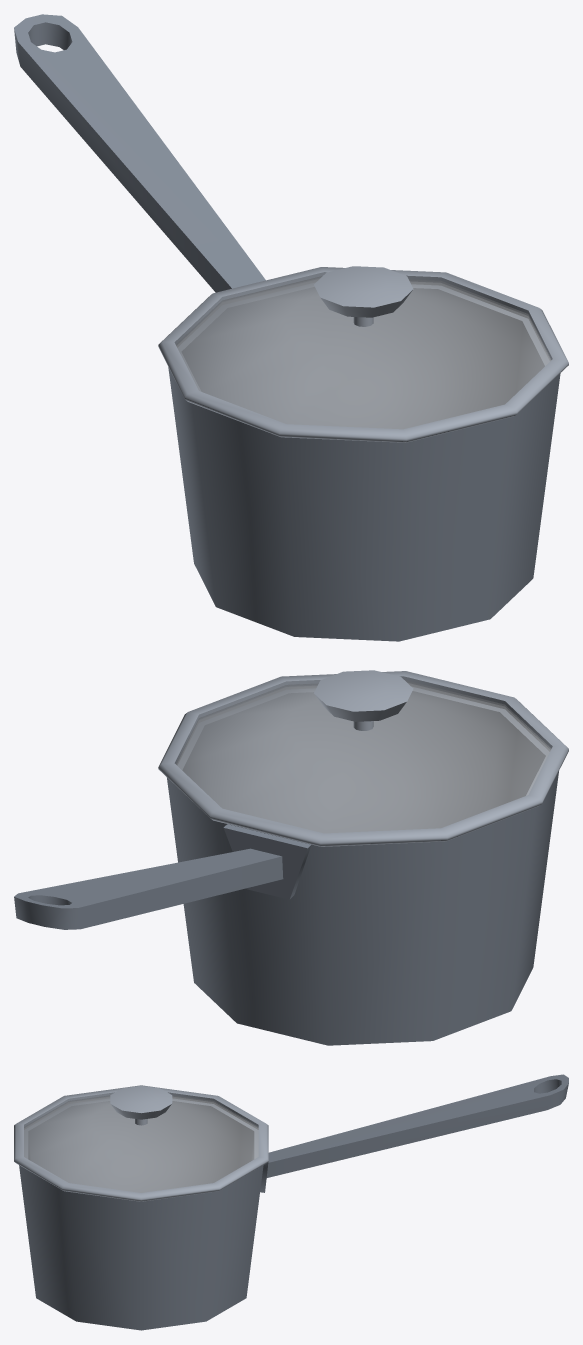
The model's file is Sauce Pan-4oMIMFY6l5.glb.
The picture shows the model from 3 angles, top to bottom: view 1: azimuth 30°, elevation 25°; view 2: azimuth 150°, elevation 25°; view 3: azimuth 270°, elevation 25°; orthographic projection. The views are drawn at different scales.
Visible parts, largest first — view 1: pan_sauce_pan_small.001_Cylinder.075, pan_sauce_pan_small_lid_Cylinder.076; view 2: pan_sauce_pan_small.001_Cylinder.075, pan_sauce_pan_small_lid_Cylinder.076; view 3: pan_sauce_pan_small.001_Cylinder.075, pan_sauce_pan_small_lid_Cylinder.076.
Part boxes in pixels (x1=…): pan_sauce_pan_small.001_Cylinder.075: x1=14, y1=14, x2=560, y2=641; pan_sauce_pan_small_lid_Cylinder.076: x1=158, y1=266, x2=568, y2=442; pan_sauce_pan_small.001_Cylinder.075: x1=14, y1=687, x2=558, y2=1045; pan_sauce_pan_small_lid_Cylinder.076: x1=158, y1=670, x2=568, y2=846; pan_sauce_pan_small.001_Cylinder.075: x1=19, y1=1074, x2=568, y2=1330; pan_sauce_pan_small_lid_Cylinder.076: x1=14, y1=1085, x2=268, y2=1201.
Size of the model in its own units: 3.01 by 2.52 by 6.25.
Materials: 2 (2 with a texture image).
